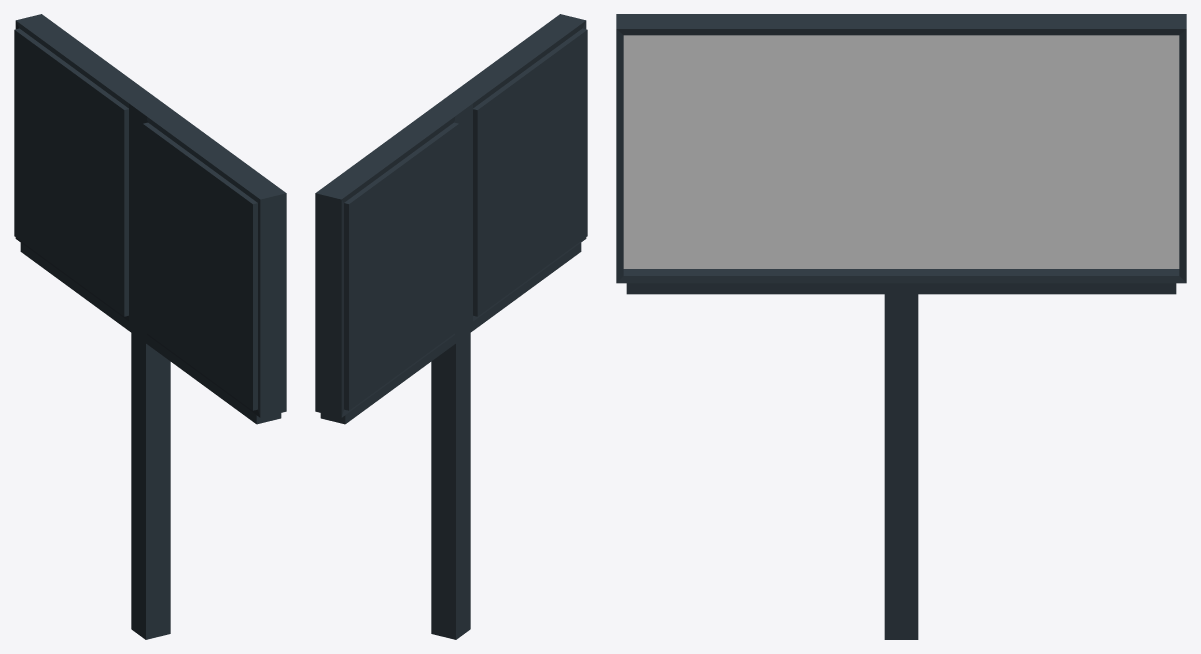
File: Billboard.fbx
3 renders of one model, left to right at view 1: azimuth 30°, elevation 25°; view 2: azimuth 150°, elevation 25°; view 3: azimuth 270°, elevation 25°, orthographic. The views are drawn at different scales.
Parts seen in each view (by area): view 1: Billboard; view 2: Billboard; view 3: Billboard.
Boxes of the visible parts, x1=… form: Billboard: x1=14, y1=14, x2=286, y2=639; Billboard: x1=315, y1=14, x2=587, y2=639; Billboard: x1=616, y1=14, x2=1186, y2=639.
Size of the model in its own units: 180 by 2969 by 2510.
